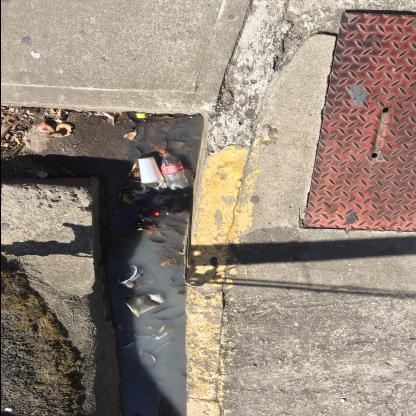plastik: (161, 151, 189, 191), (125, 293, 167, 318), (118, 267, 154, 291), (138, 157, 166, 184)
